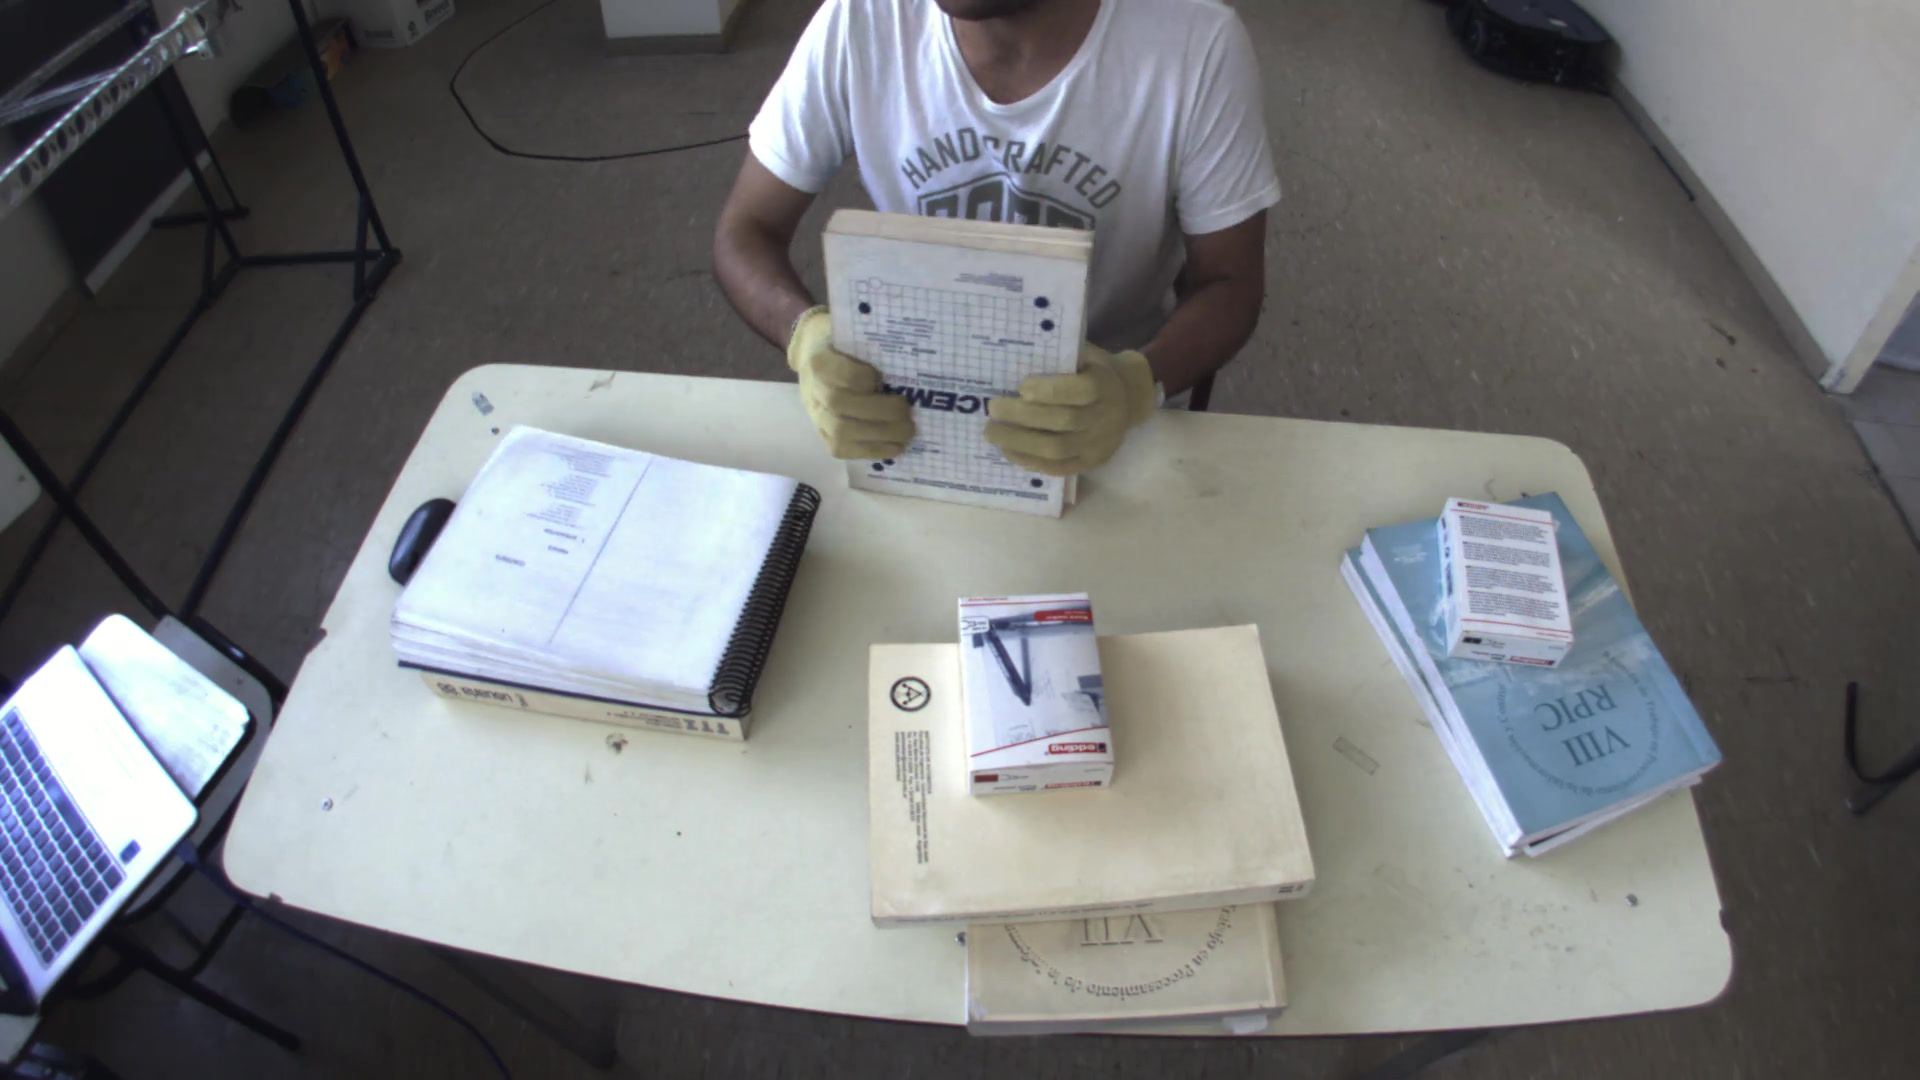hand: (982, 331, 1174, 477), (771, 309, 923, 473)
